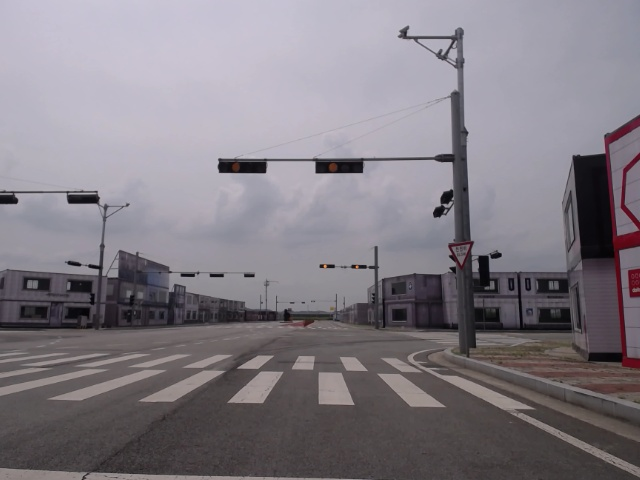orange_4: (315, 157, 364, 174), (217, 159, 268, 174), (350, 263, 369, 270), (320, 263, 337, 269)
